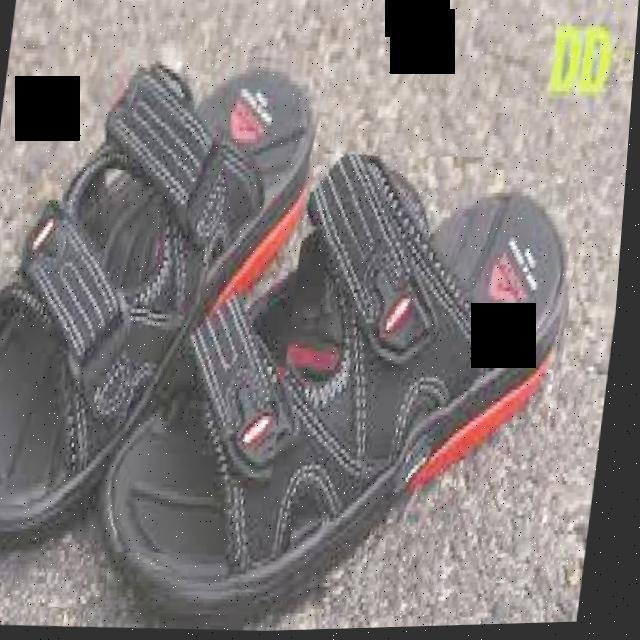shoe: (0, 32, 603, 636), (87, 140, 585, 620), (0, 37, 326, 564)
